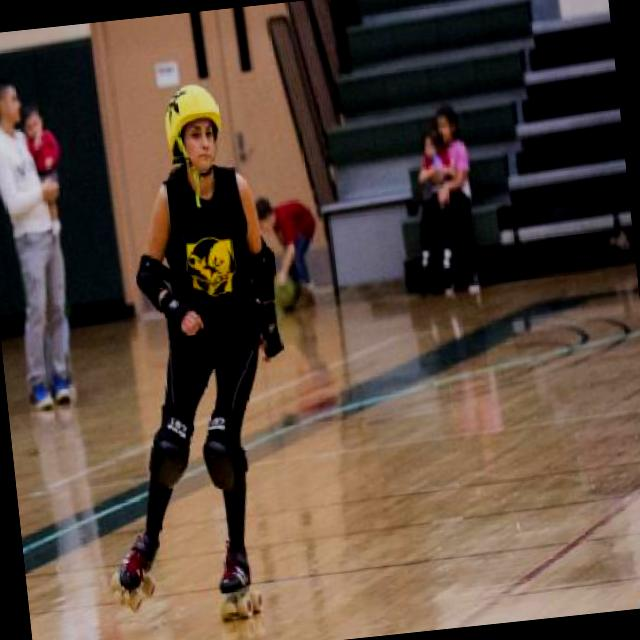Person: (95, 61, 306, 628), (0, 77, 79, 417), (422, 102, 484, 298), (403, 125, 470, 289), (252, 187, 326, 317), (20, 101, 70, 242)
